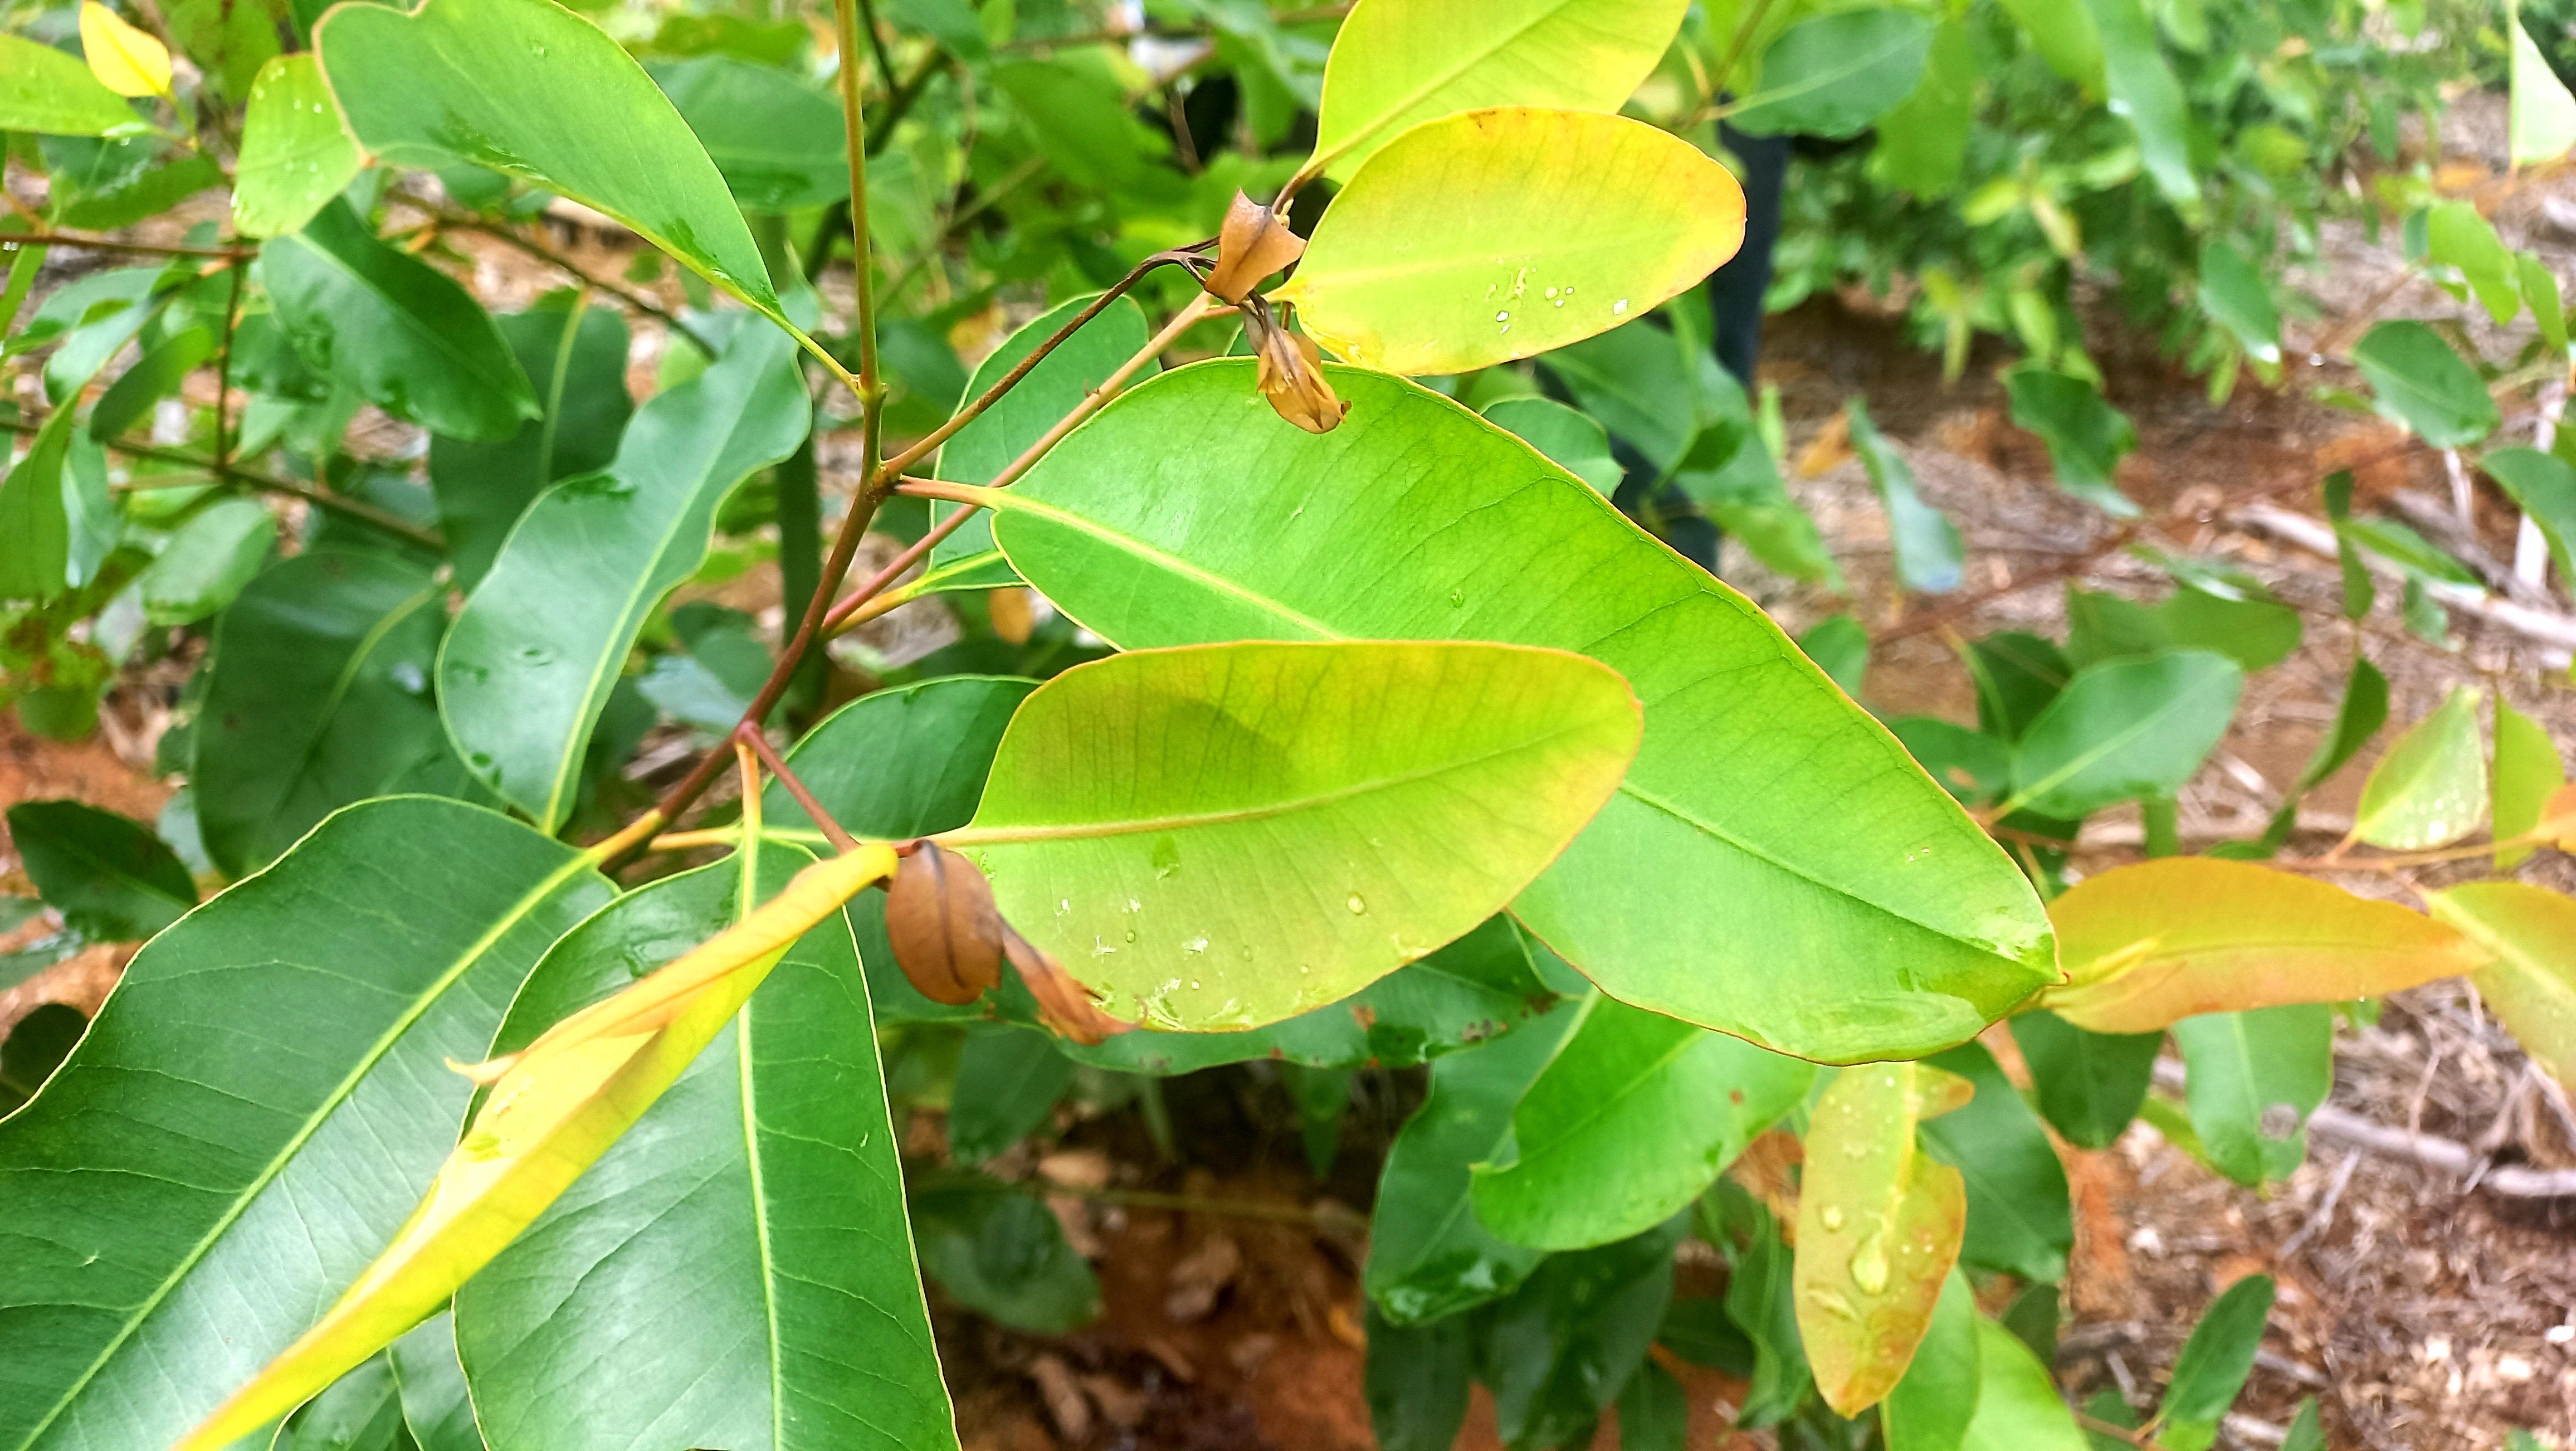Helopeltis-Withered Sprout: (890, 835, 1003, 1007), (998, 920, 1148, 1048), (1205, 186, 1311, 310), (1258, 331, 1352, 437)
